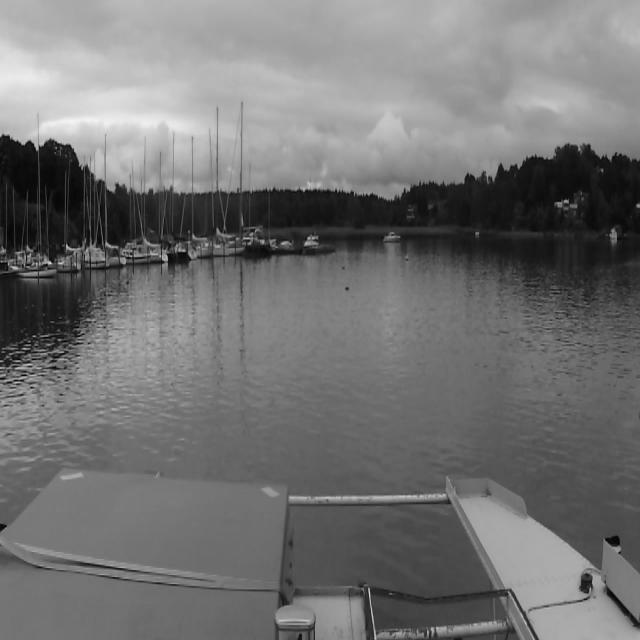ship: (12, 103, 59, 278), (84, 134, 126, 268), (217, 102, 246, 254), (164, 132, 196, 262), (130, 140, 163, 266), (195, 128, 216, 255), (247, 162, 273, 258), (60, 155, 80, 273), (275, 237, 295, 249), (384, 230, 402, 243), (306, 232, 318, 246)
